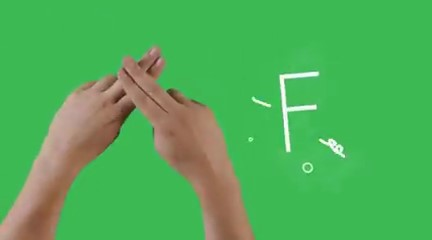F: (47, 39, 231, 179)
